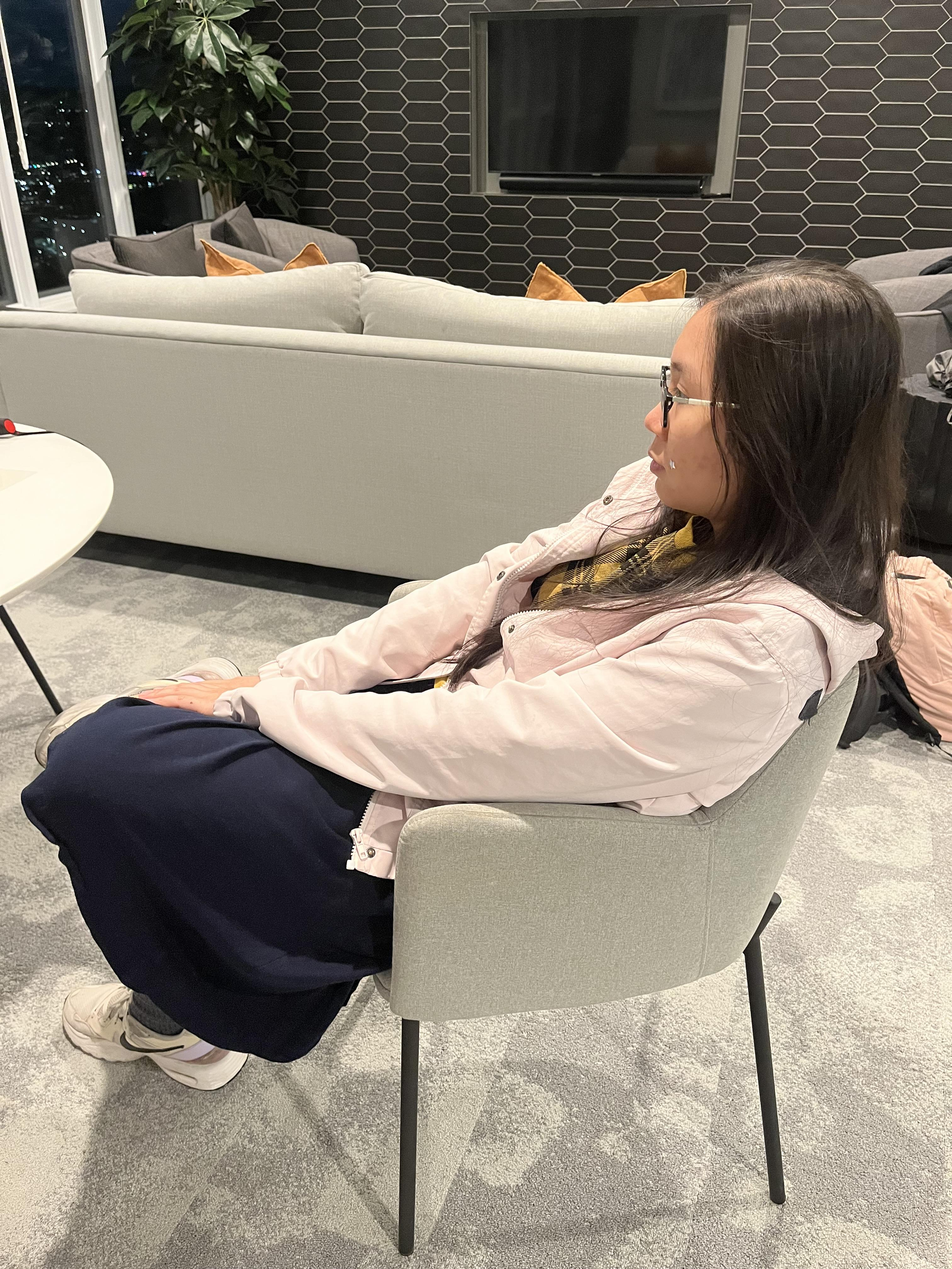BadPosture: (19, 258, 897, 1088)
